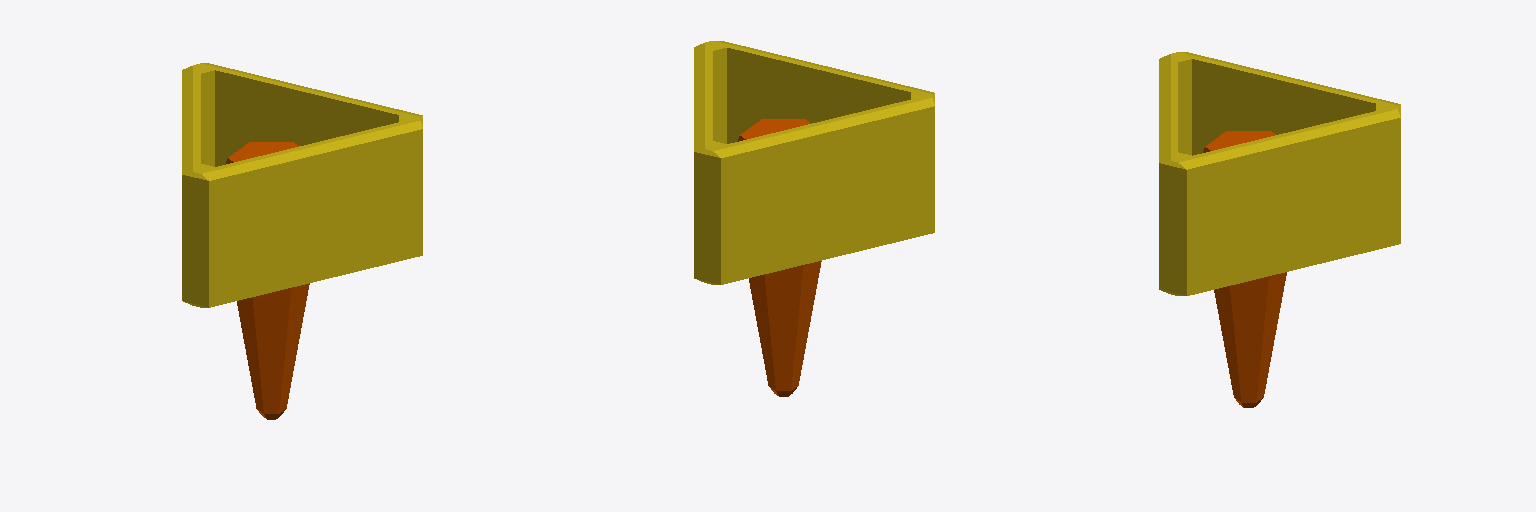
File: notify.obj
3 renders of one model, left to right at view 1: azimuth 30°, elevation 25°; view 2: azimuth 150°, elevation 25°; view 3: azimuth 270°, elevation 25°, orthographic.
Parts seen in each view (by area): view 1: Cylinder.001, Cylinder; view 2: Cylinder.001, Cylinder; view 3: Cylinder.001, Cylinder.
Part boxes in pixels (x1,y1,x2,y2): Cylinder.001: (182, 63, 422, 307); Cylinder: (225, 142, 309, 419); Cylinder.001: (694, 41, 934, 284); Cylinder: (737, 119, 821, 396); Cylinder.001: (1159, 52, 1400, 295); Cylinder: (1203, 131, 1286, 407).
Bounding box in the file's own units: 4.54 × 5.34 × 3.93.